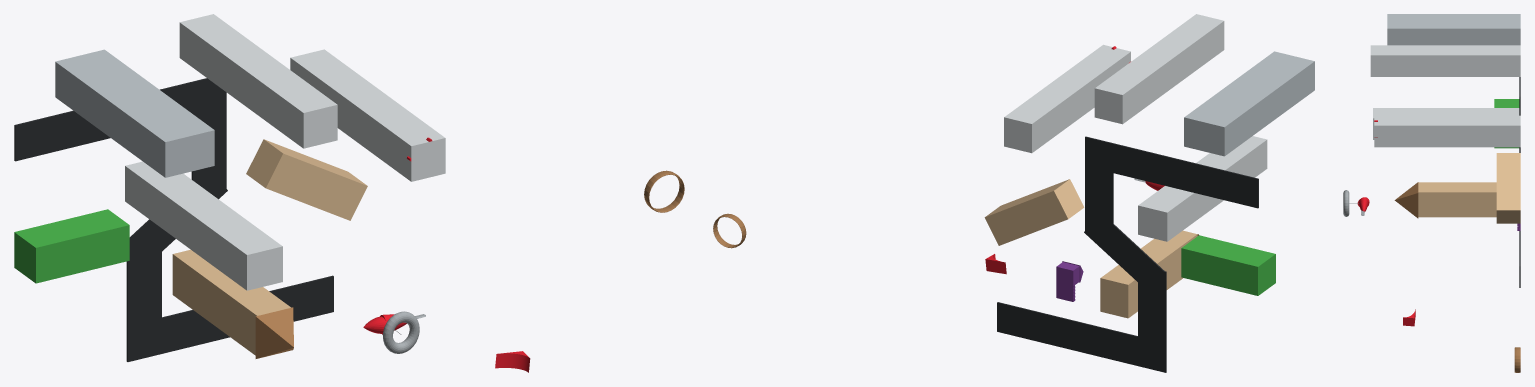
File: tinker.obj
3 renders of one model, left to right at view 1: azimuth 30°, elevation 25°; view 2: azimuth 150°, elevation 25°; view 3: azimuth 270°, elevation 25°, orthographic. The views are drawn at different scales.
Parts seen in each view (by area): view 1: group_0_14541540, group_0_2829873, group_0_12568524, group_0_14860437, group_0_4634441, group_0_11107152, group_0_10988977, group_0_15277357; view 2: group_0_14541540, group_0_2829873, group_0_12568524, group_0_14860437, group_0_4634441, group_0_8273816; view 3: group_0_14541540, group_0_14860437, group_0_12568524, group_0_11107152, group_0_15277357, group_0_4634441, group_0_10988977, group_0_2829873.
Boxes of the visible parts, x1,y1,x2,y2 form: group_0_14541540: [125, 14, 445, 290]; group_0_2829873: [14, 78, 333, 361]; group_0_12568524: [55, 49, 214, 177]; group_0_14860437: [172, 139, 367, 355]; group_0_4634441: [14, 209, 129, 283]; group_0_11107152: [255, 170, 684, 358]; group_0_10988977: [383, 311, 425, 353]; group_0_15277357: [363, 137, 530, 372]; group_0_14541540: [1004, 14, 1267, 241]; group_0_2829873: [997, 136, 1258, 372]; group_0_12568524: [1184, 51, 1314, 156]; group_0_14860437: [984, 179, 1197, 318]; group_0_4634441: [1181, 235, 1275, 295]; group_0_8273816: [1056, 261, 1083, 301]; group_0_14541540: [1370, 45, 1520, 147]; group_0_14860437: [1418, 153, 1520, 223]; group_0_12568524: [1387, 14, 1520, 45]; group_0_11107152: [1394, 182, 1520, 372]; group_0_15277357: [1357, 120, 1415, 326]; group_0_4634441: [1494, 99, 1519, 148]; group_0_10988977: [1343, 190, 1364, 216]; group_0_2829873: [1519, 77, 1520, 287].
Bounding box in the file's own units: 391 × 191 × 149.
